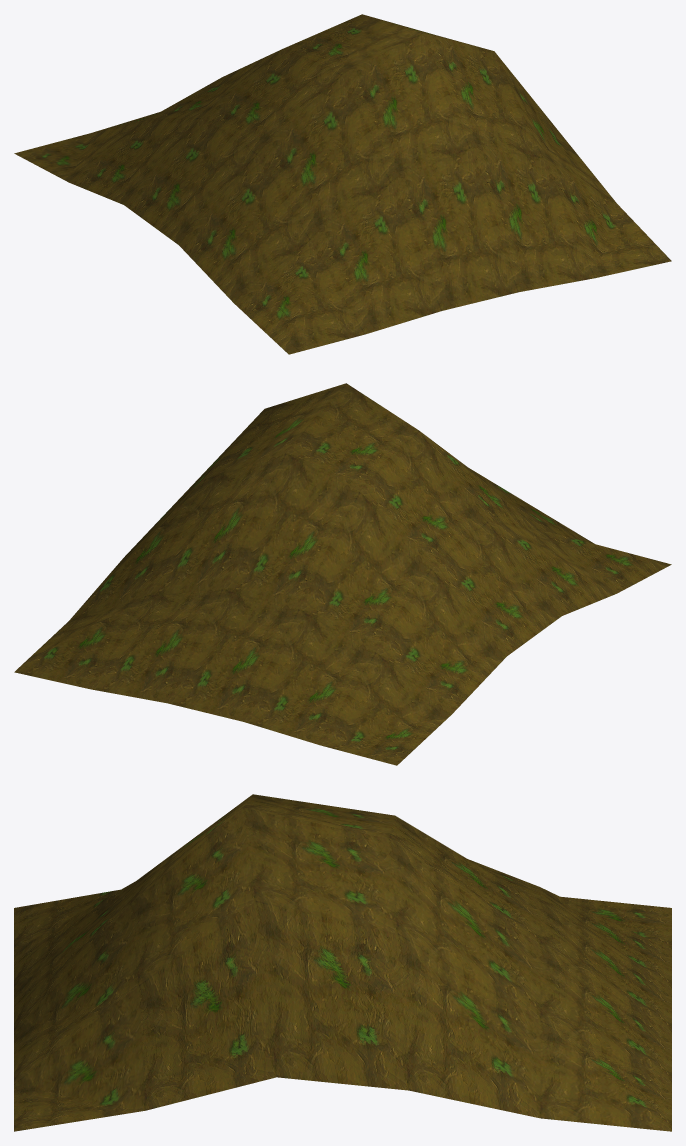
File: MIRKWOOD_AREA4_BARRIERB.fbx
3 views of the same model, one above another, from view 1: azimuth 30°, elevation 25°; view 2: azimuth 150°, elevation 25°; view 3: azimuth 270°, elevation 25° (orthographic). The views are drawn at different scales.
Parts seen in each view (by area): view 1: MIRKWOOD_AREA4_BARRIERB; view 2: MIRKWOOD_AREA4_BARRIERB; view 3: MIRKWOOD_AREA4_BARRIERB.
Boxes of the visible parts, bbox=[...] form: MIRKWOOD_AREA4_BARRIERB: bbox=[14, 14, 671, 354]; MIRKWOOD_AREA4_BARRIERB: bbox=[14, 383, 671, 765]; MIRKWOOD_AREA4_BARRIERB: bbox=[14, 794, 671, 1131].
Size of the model in its own units: 412549 by 200975 by 512805.
Materials: 1 (1 with a texture image).
